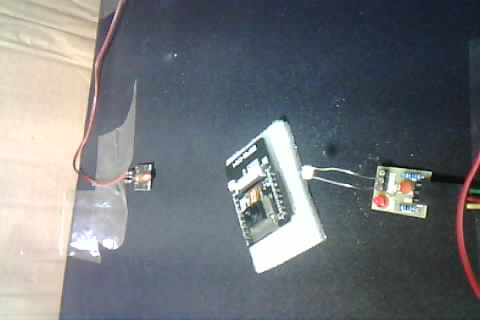esp32: (222, 121, 305, 267)
